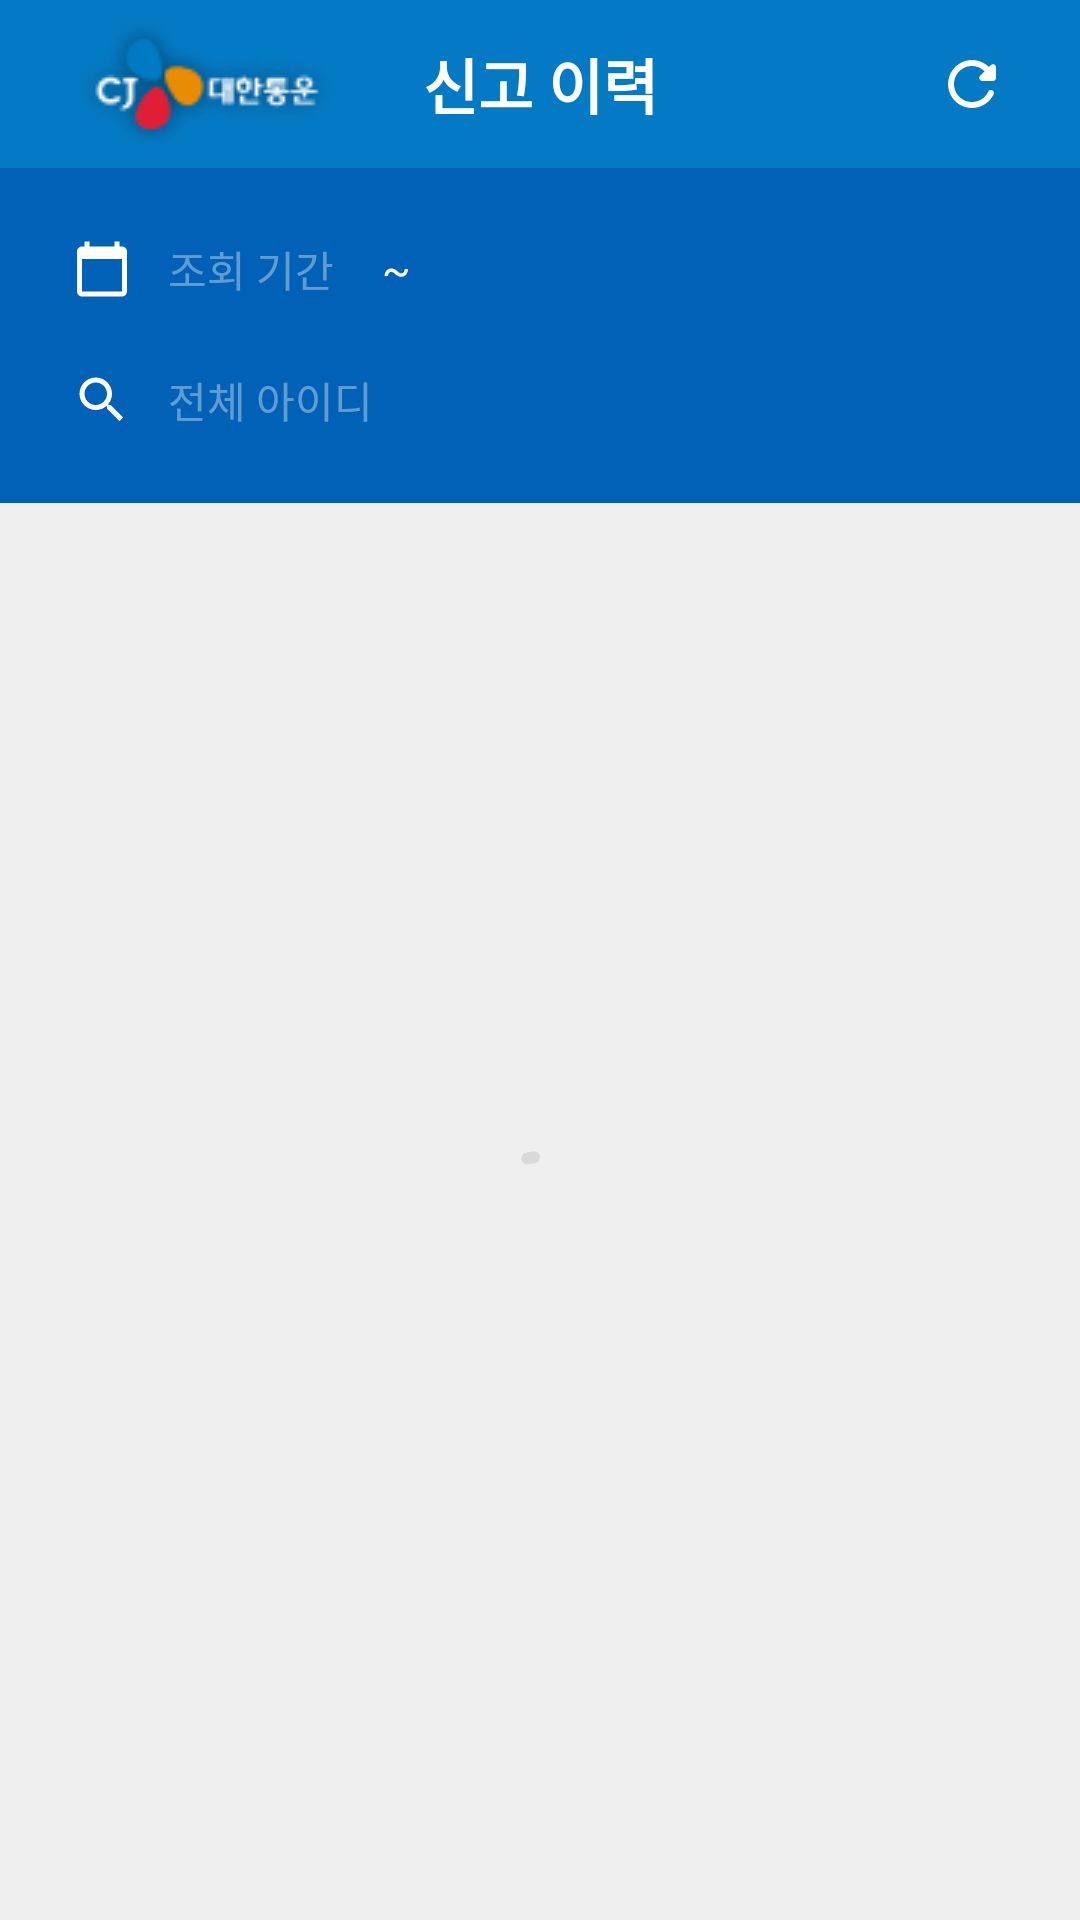

Screen size 1080px x 1920px. Icon name, then its box in pixels as (x1, y1, x2, y2):
calendar: (77, 241, 127, 297)
refresh: (948, 60, 996, 108)
search: (79, 377, 123, 421)
